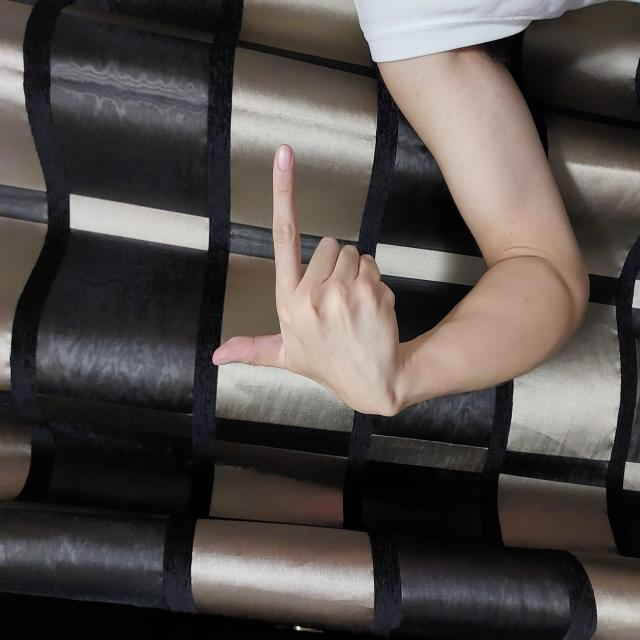G: (222, 210, 500, 404)
